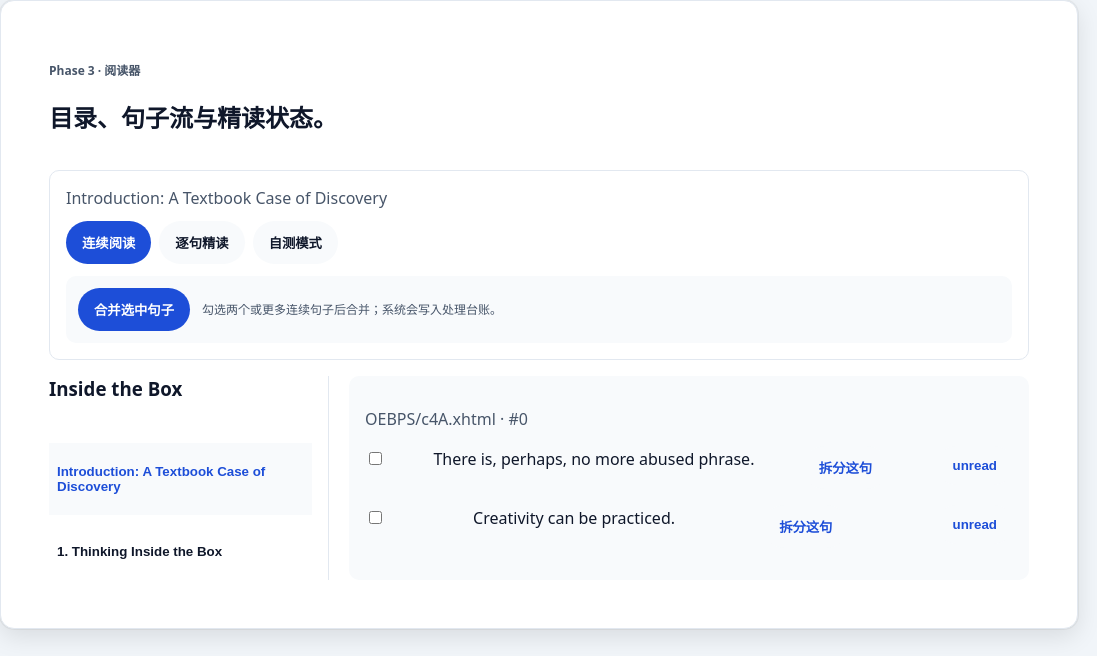
Test case: ReaderPanel › switches sentence stream when a toc node is clicked
Click the button with test id "toc-node-11". click: (180, 551)
box: [49, 523, 312, 580]
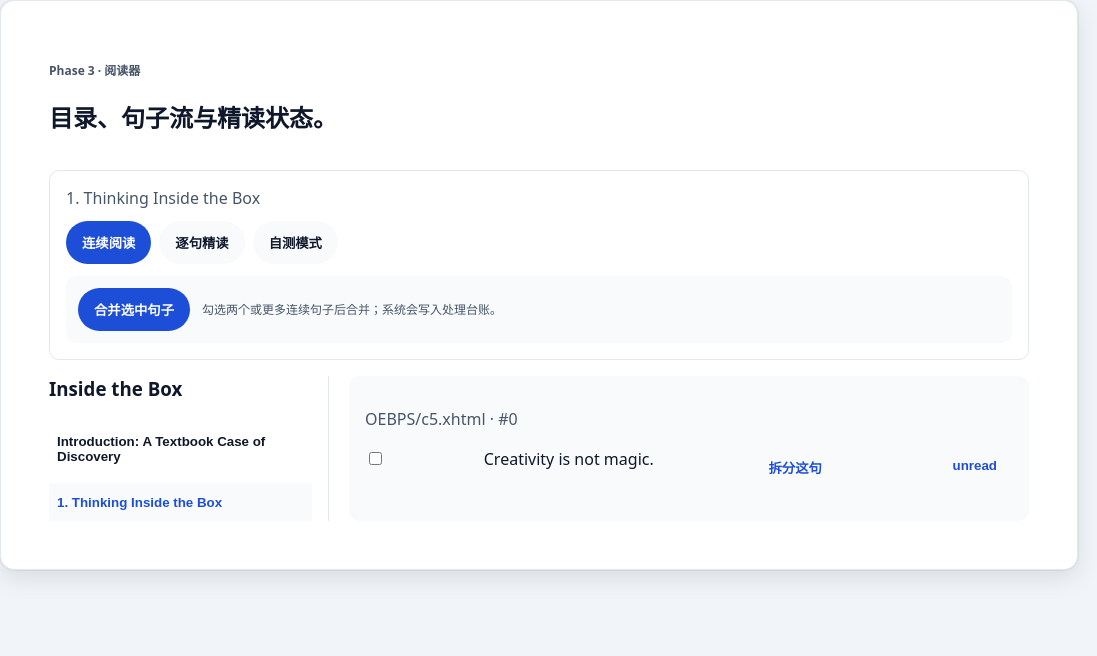
Expected: the text "1. Thinking Inside the Box" is shown, [66, 187, 260, 209]
Expected: the text "Creativity is not magic." is shown, [484, 446, 654, 473]
